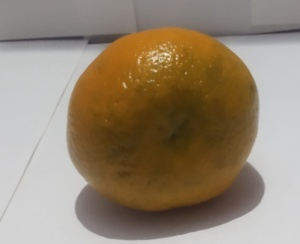BAD: (66, 24, 265, 217)
